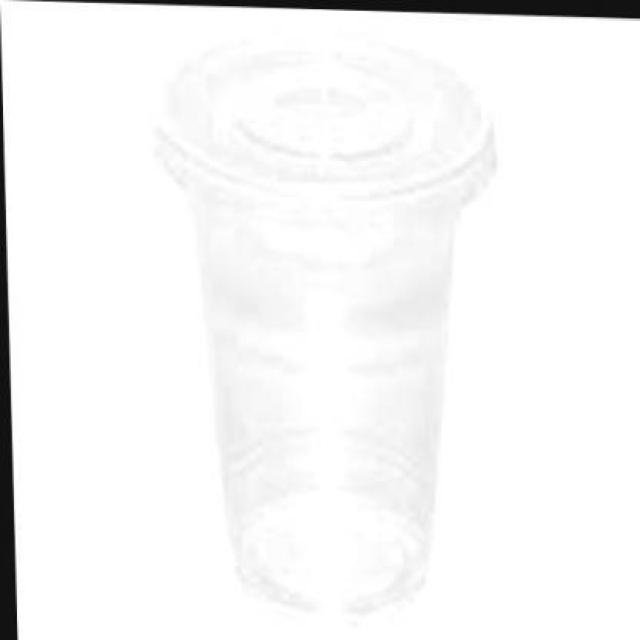Plastic: (153, 22, 487, 635)
